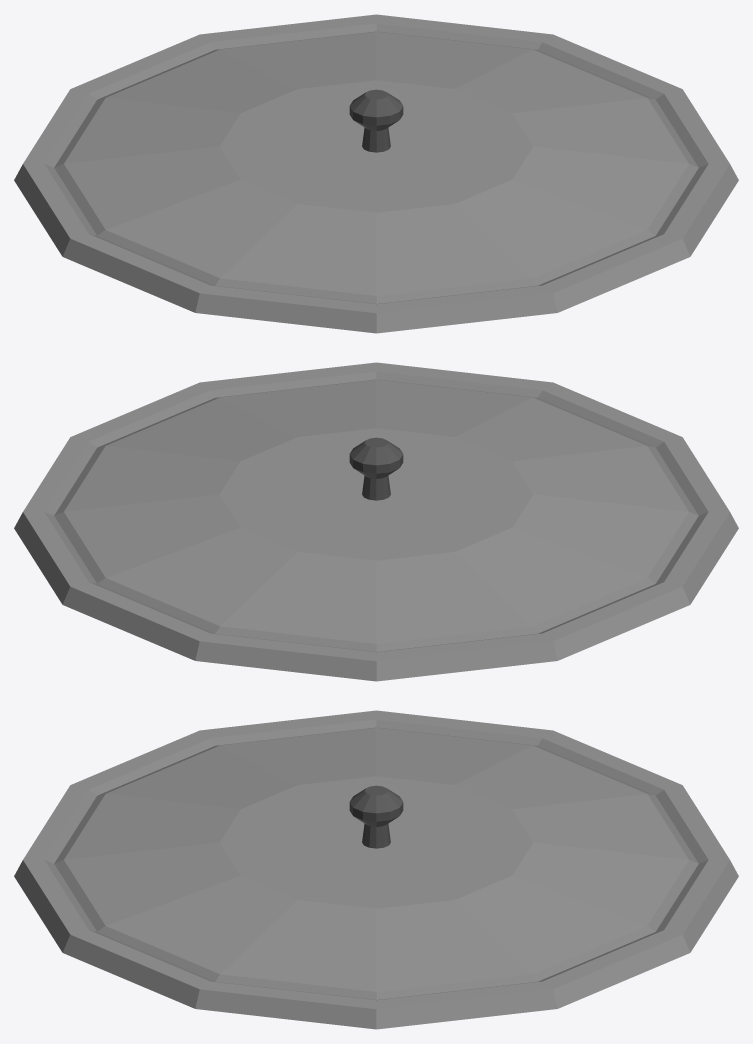
File: PanPart_03_C1.fbx
The picture shows the model from 3 angles, top to bottom: view 1: azimuth 30°, elevation 25°; view 2: azimuth 150°, elevation 25°; view 3: azimuth 270°, elevation 25°; orthographic projection.
Visible parts, largest first — view 1: PanPart_03_C1; view 2: PanPart_03_C1; view 3: PanPart_03_C1.
Boxes of the visible parts, x1=… form: PanPart_03_C1: x1=14, y1=14, x2=738, y2=333; PanPart_03_C1: x1=14, y1=362, x2=738, y2=681; PanPart_03_C1: x1=14, y1=710, x2=738, y2=1029.
Size of the model in its own units: 27.92 by 3.64 by 27.92.
